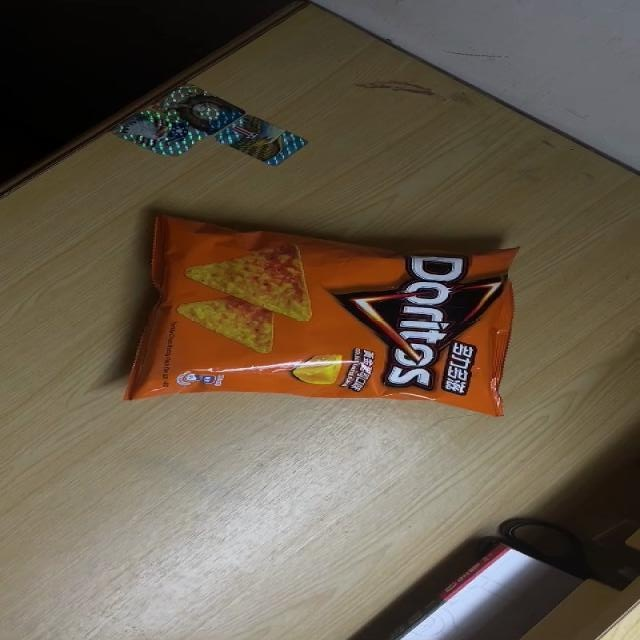Doritos: (121, 209, 522, 416)
